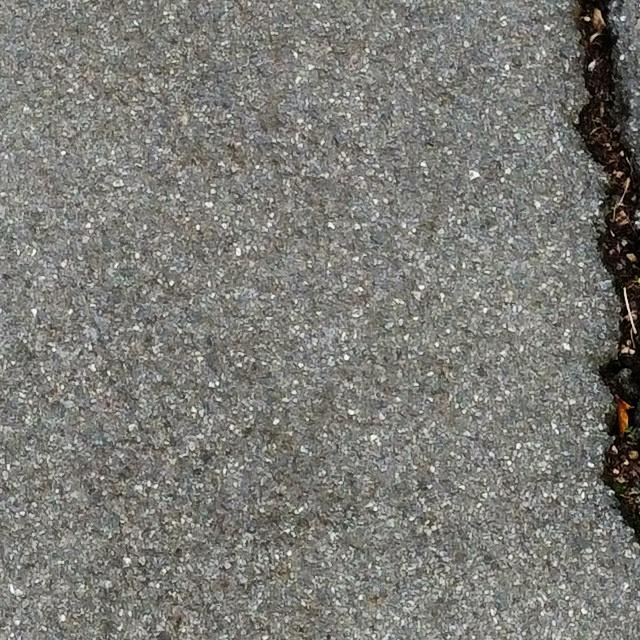LongitudinalCrack: (572, 1, 640, 535)
